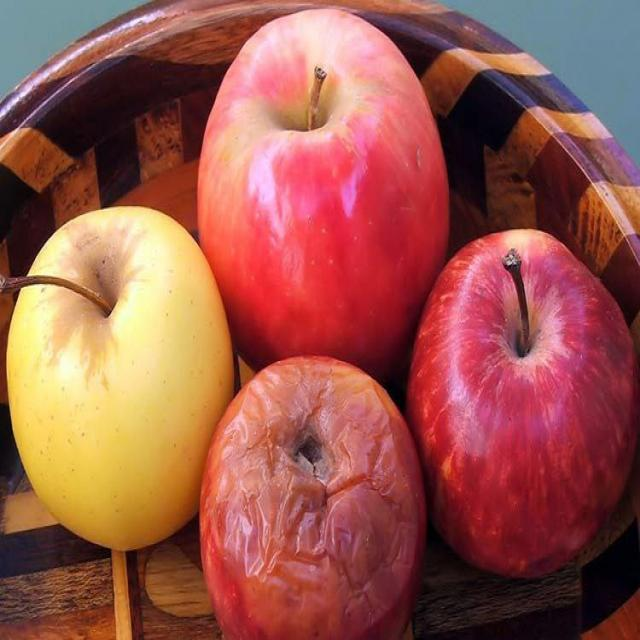Fresh Apple: (205, 30, 440, 365), (421, 226, 640, 585), (18, 218, 237, 538)
Rotten: (207, 370, 410, 640)
